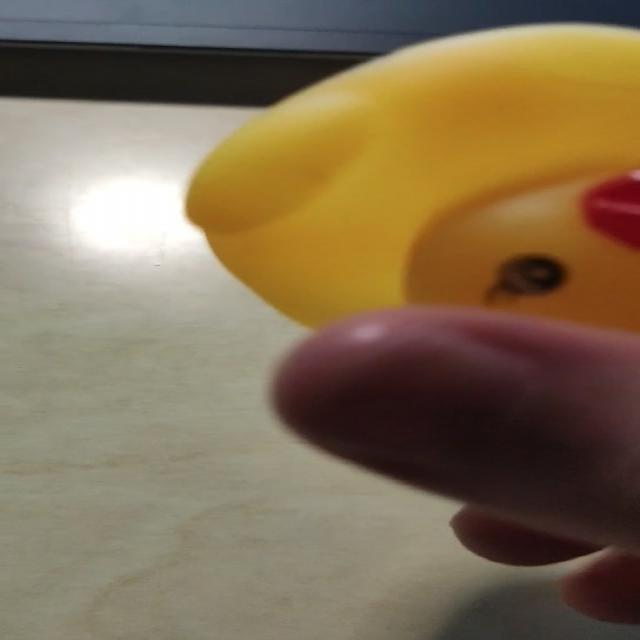rubber-duck: (186, 24, 638, 329)
